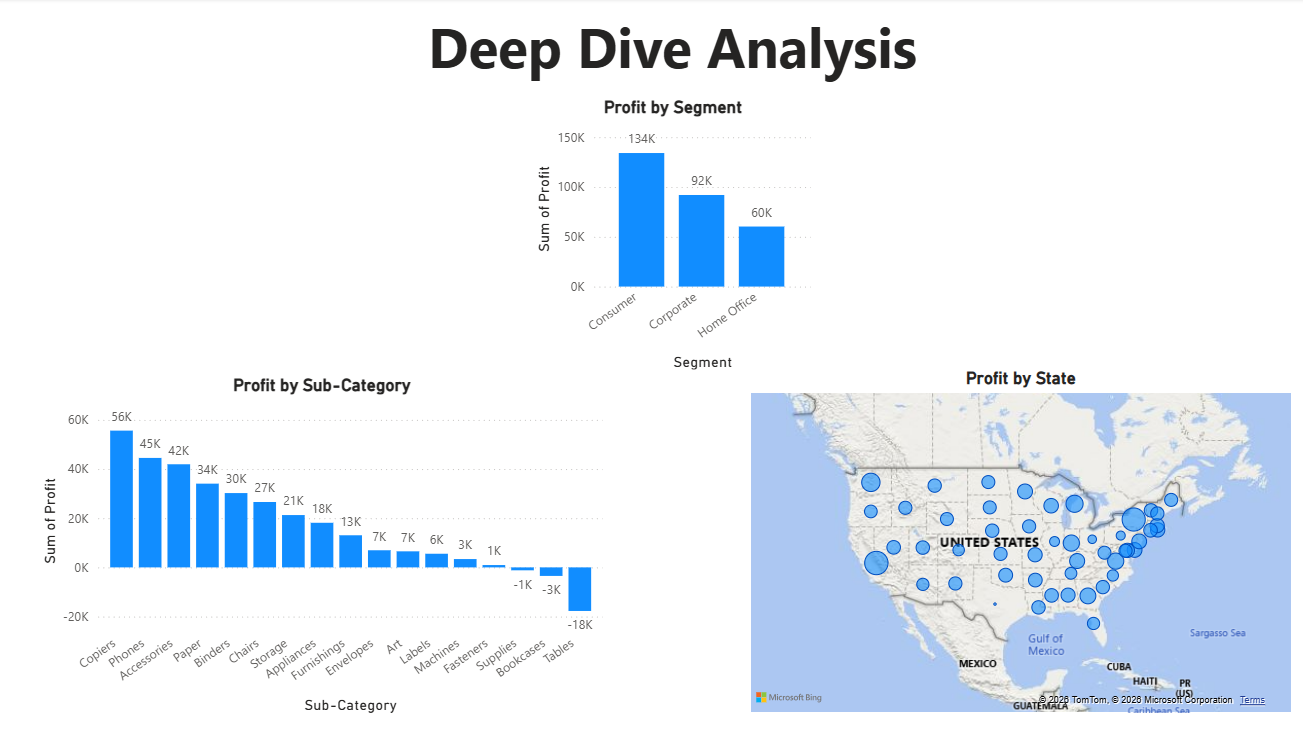

The page's visual inventory and layout, read from the dashboard file:
{"tool":"powerbi","page":{"name":"Page 2","canvas":[1280,720],"ordinal":1},"visuals":[{"type":"columnChart","title":"Profit by Sub-Category","fields":{"Category":["Sample - Superstore.Sub-Category"],"Y":["Sum(Sample - Superstore.Profit)"]},"box":[39.9,366.7,556.4,333.6],"z":0},{"type":"columnChart","title":"Profit by Segment","fields":{"Category":["Sample - Superstore.Segment"],"Y":["Sum(Sample - Superstore.Profit)"]},"box":[520.4,96.3,278.2,270.4],"z":3000},{"type":"map","title":"Profit by State","fields":{"Category":["Sample - Superstore.State"],"Size":["Sum(Sample - Superstore.Profit)"]},"box":[730.5,359.9,535,340.4],"z":4000},{"type":"textbox","box":[53.5,4.9,1210.9,91.4],"z":4001}]}

Visuals, with their boxes in screenshot pixels (x1, y1, x2, y2), scaled from the page's 1280x720 canvas onto the 1303x733 screenshot:
"Profit by Sub-Category" columnChart: box=[41, 373, 607, 713]
"Profit by Segment" columnChart: box=[530, 98, 813, 373]
"Profit by State" map: box=[744, 366, 1288, 713]
textbox: box=[54, 5, 1287, 98]
